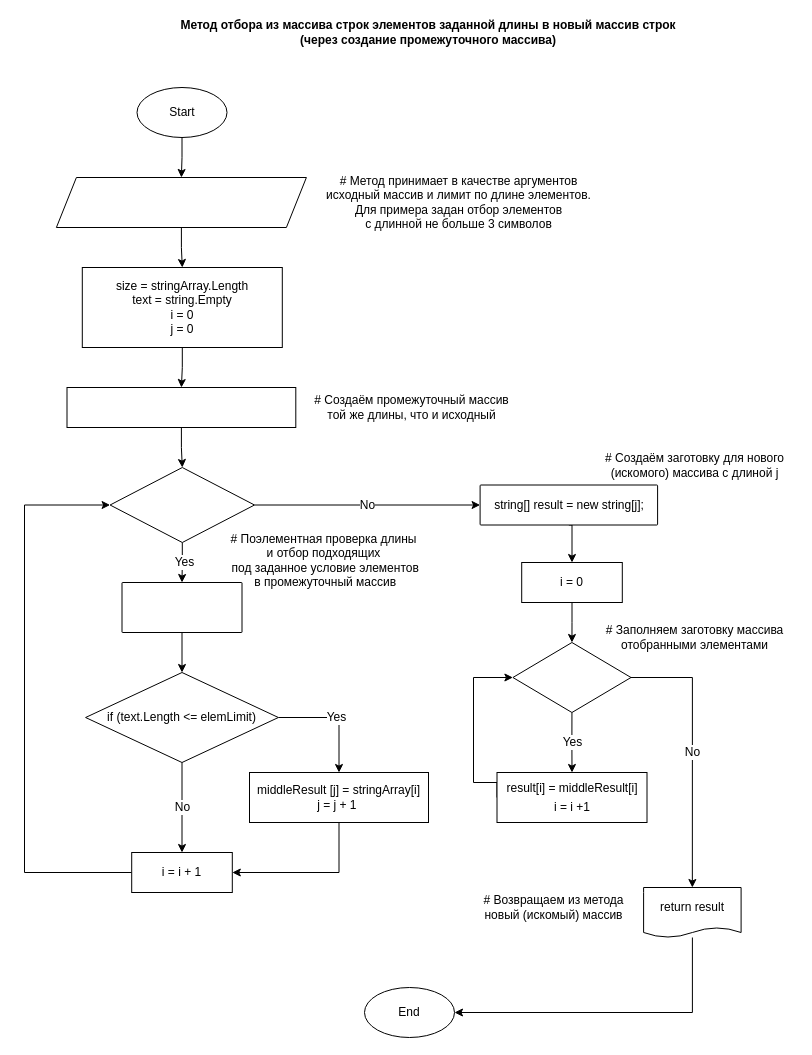
Image size: 812x1055. Some labels were removed from this diagram. The shapes that lost their labels are listed below. From the top down, each one's centre as x and y in pixels, then its label:
At [180,202]: "stringArray = [“Hello”, “2”, “world”, “:-)”] elemLimit = 3".
At [181,407]: "string[] middleResult = new string[size]".
At [181,504]: "while (i < size)".
At [181,607]: "text = stringArray[i]".
At [571,677]: "while (i < j)".
